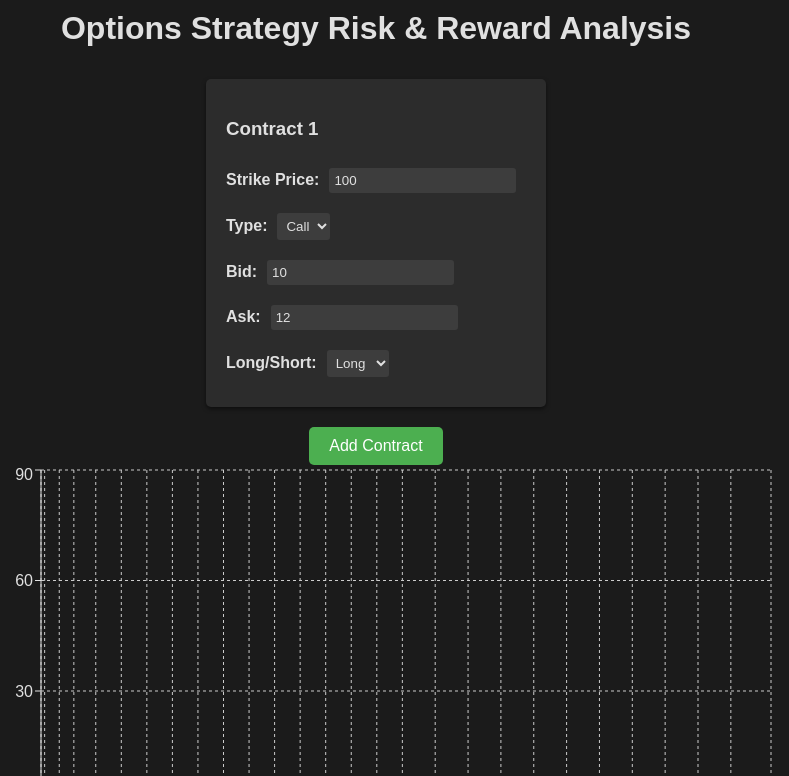
Unit Testing : ARIES-REACT_CHALLENGE › adds a contract and verifies the count
Expected: the number of headings "Contract 1" is 1, [226,118,318,139]
// Add a new contract
Step 1. Click the button "Add Contract" → (376, 446), box [309,427,443,465]
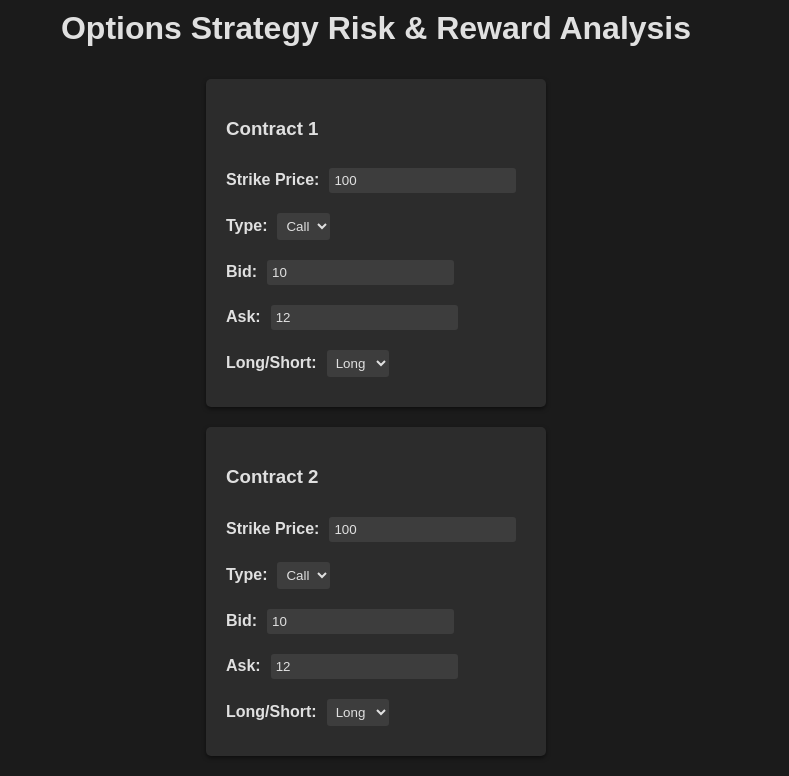
Expected: the number of headings "Contract 1" is 2, [226,118,318,139]; [226,466,318,487]
